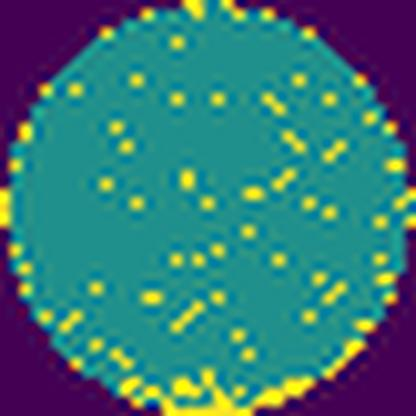Edge-Loc: (117, 363, 318, 416)
